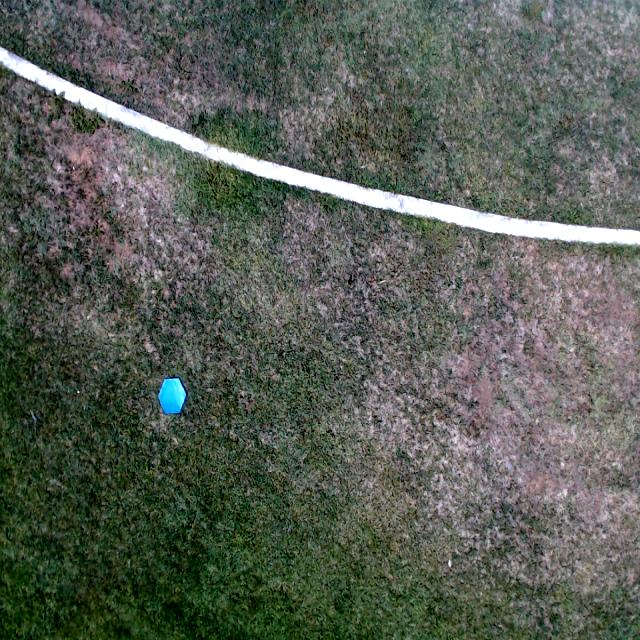blue_hexagon: (159, 378, 186, 416)
